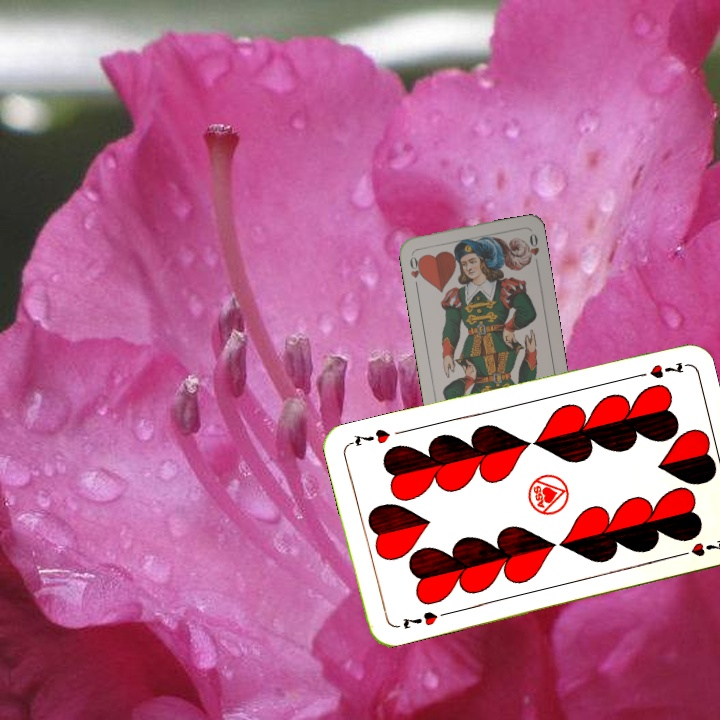H7: (629, 358, 688, 381), (398, 607, 440, 632)
HO: (406, 248, 426, 289)
